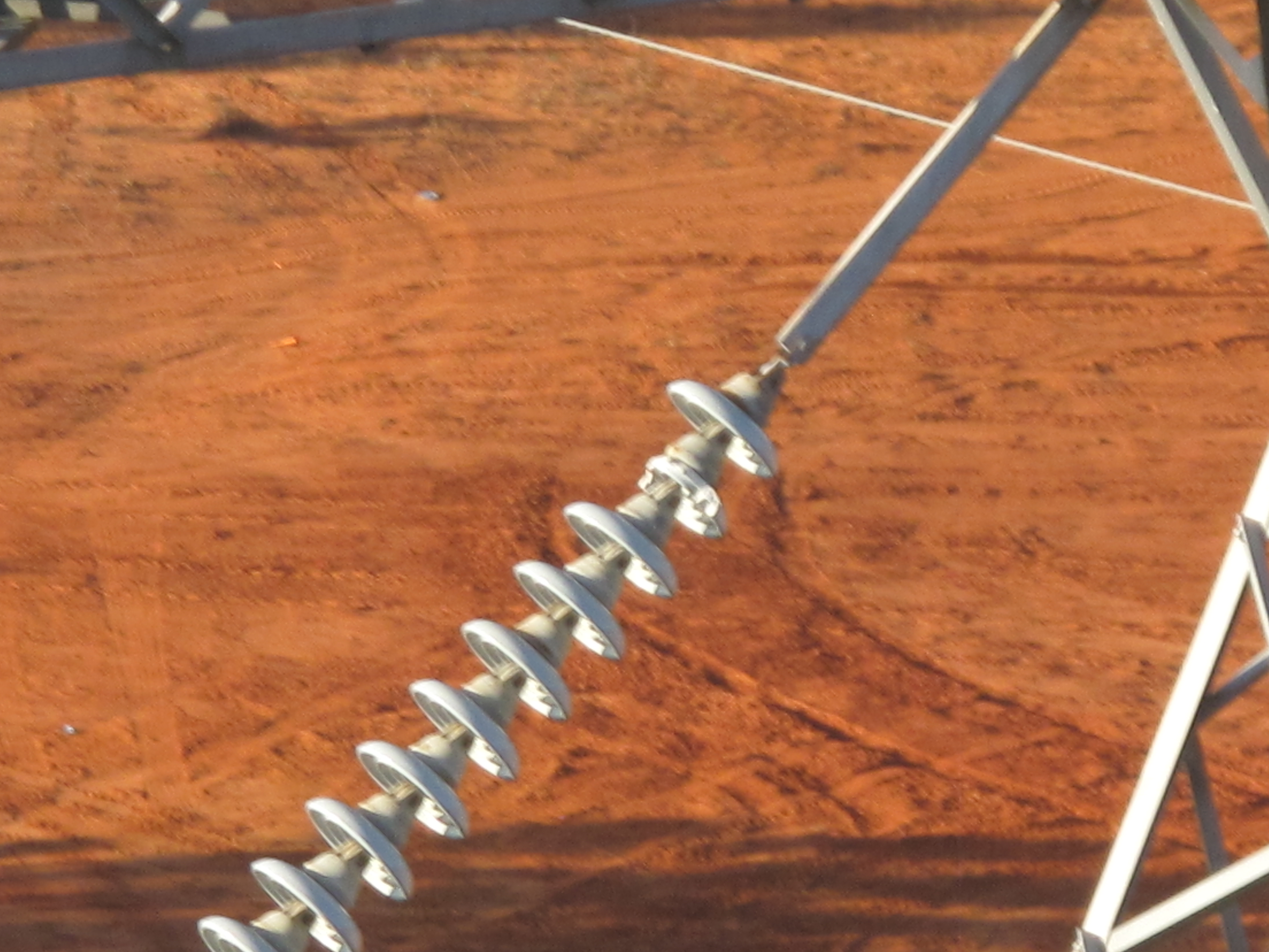damaged: (637, 455, 724, 526)
insulator: (200, 381, 773, 952)
